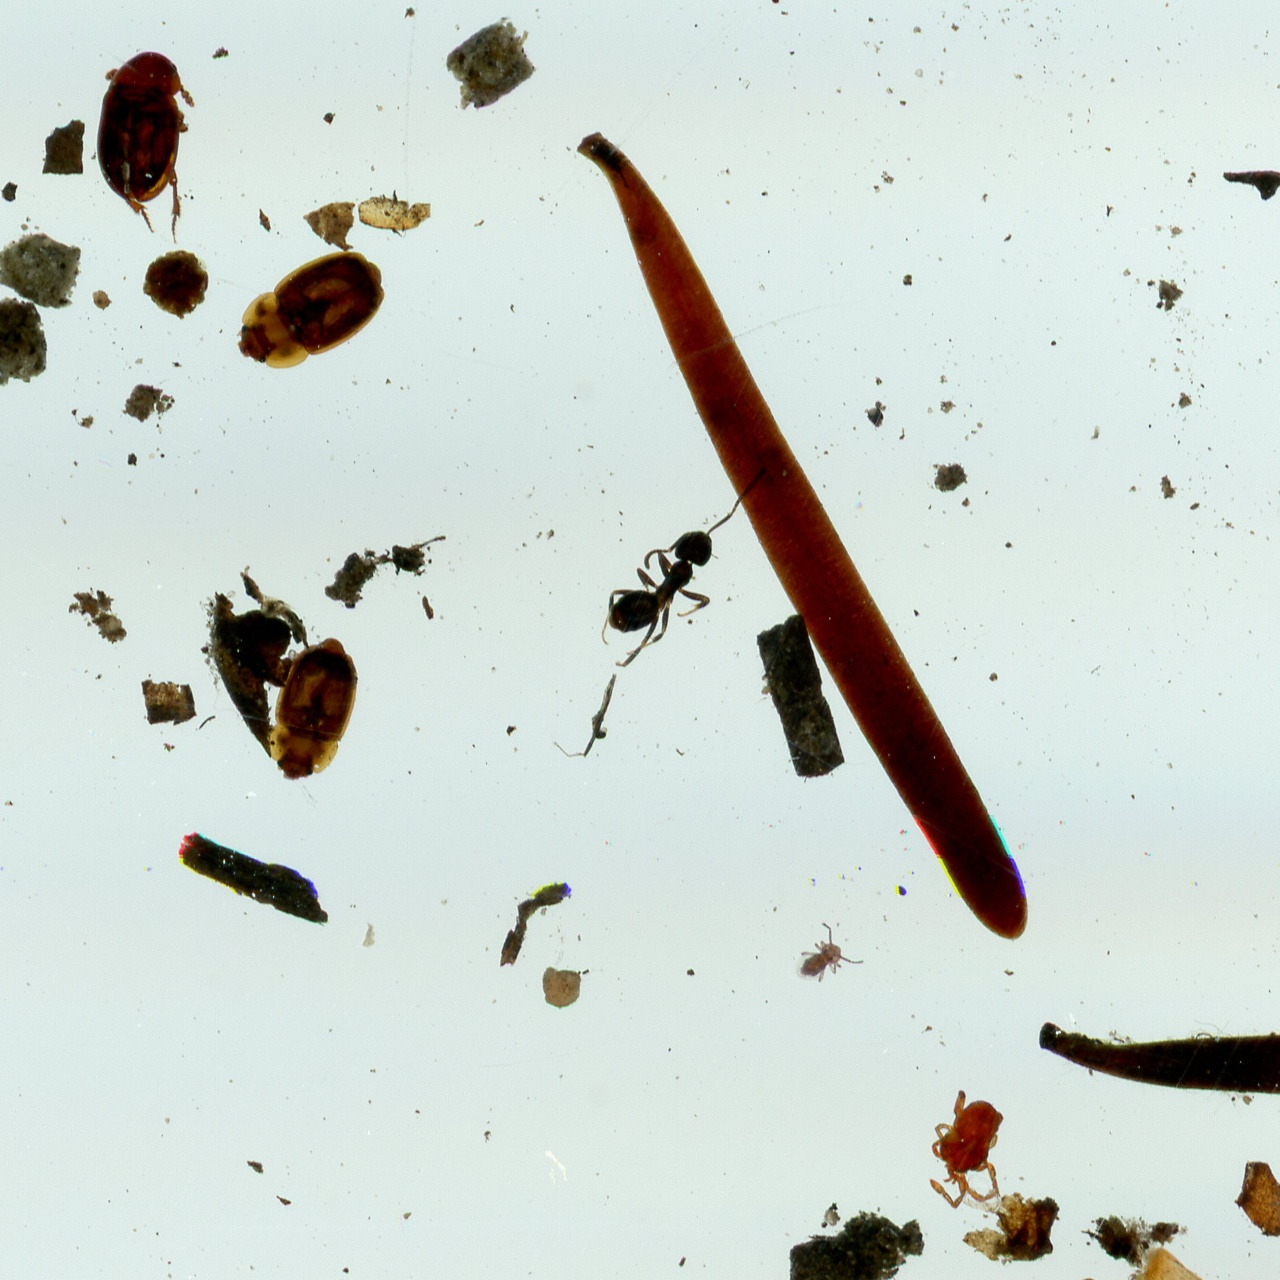arthropod: (577, 472, 759, 693), (218, 231, 400, 386), (97, 49, 194, 242), (262, 626, 366, 786), (928, 1088, 1002, 1204), (785, 916, 867, 999)
